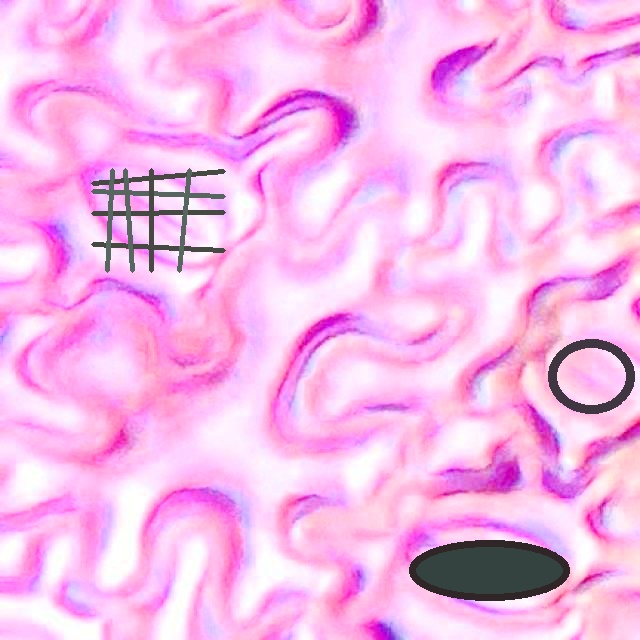close: (547, 339, 635, 413)
open: (91, 168, 225, 272), (409, 539, 570, 600)
